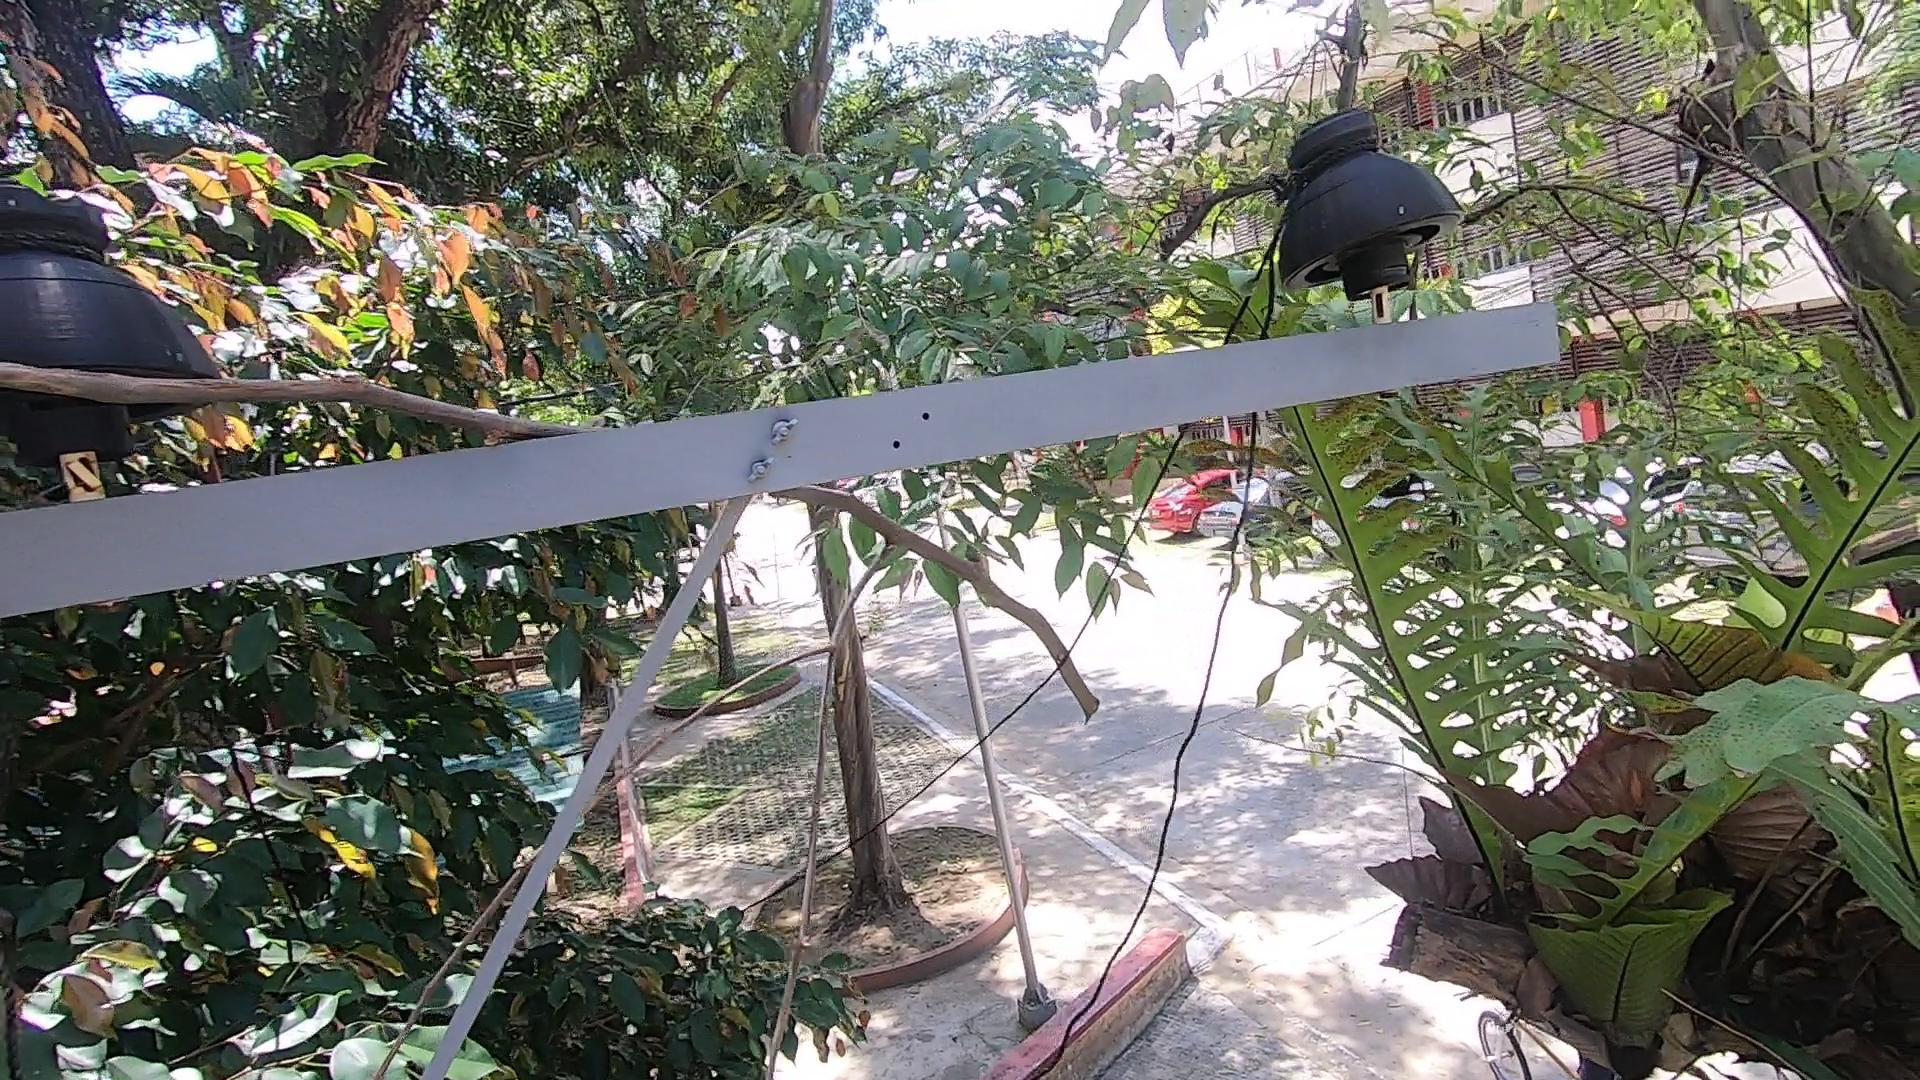tree branch: (558, 493, 1106, 1080), (1, 347, 563, 444), (349, 848, 524, 1080)
